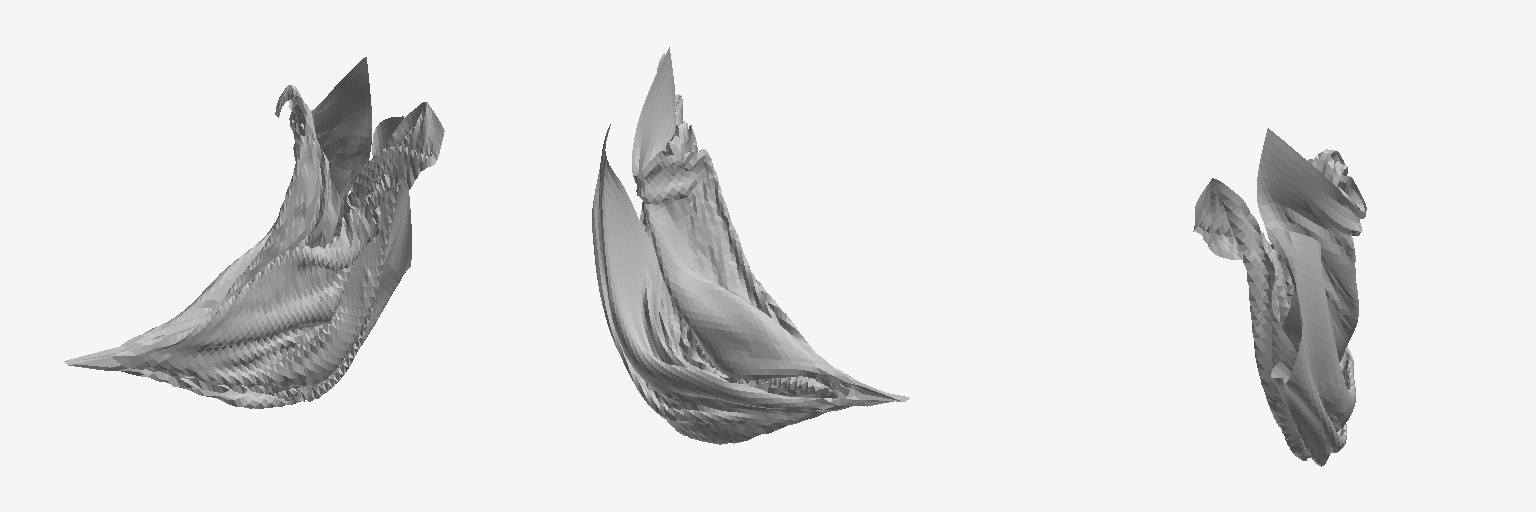
The model's file is cloth3.obj.
3 views of the same model, side by side, from view 1: azimuth 30°, elevation 25°; view 2: azimuth 150°, elevation 25°; view 3: azimuth 270°, elevation 25° (orthographic).
Parts seen in each view (by area): view 1: skin_texture12_3; view 2: skin_texture12_3; view 3: skin_texture12_3.
Part boxes in pixels (bbox=[...]): skin_texture12_3: bbox=[64, 57, 444, 408]; skin_texture12_3: bbox=[592, 47, 909, 444]; skin_texture12_3: bbox=[1193, 128, 1366, 466].
Bounding box in the file's own units: 29.64 × 30.73 × 13.51.